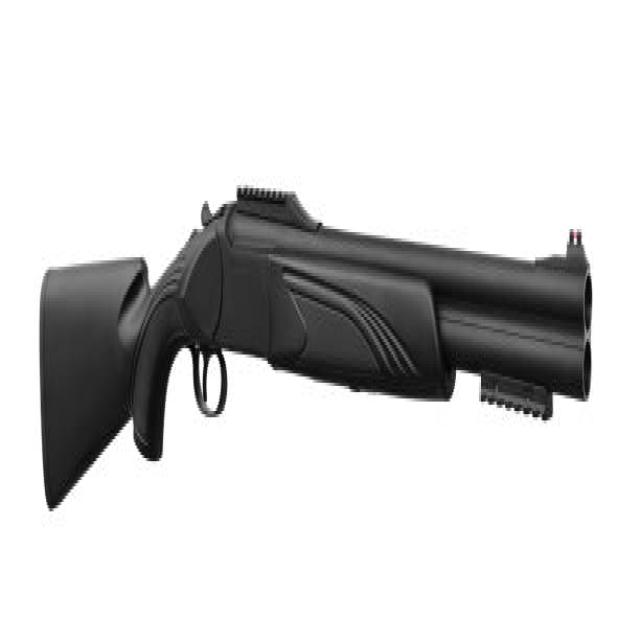rifle: (31, 181, 604, 520)
